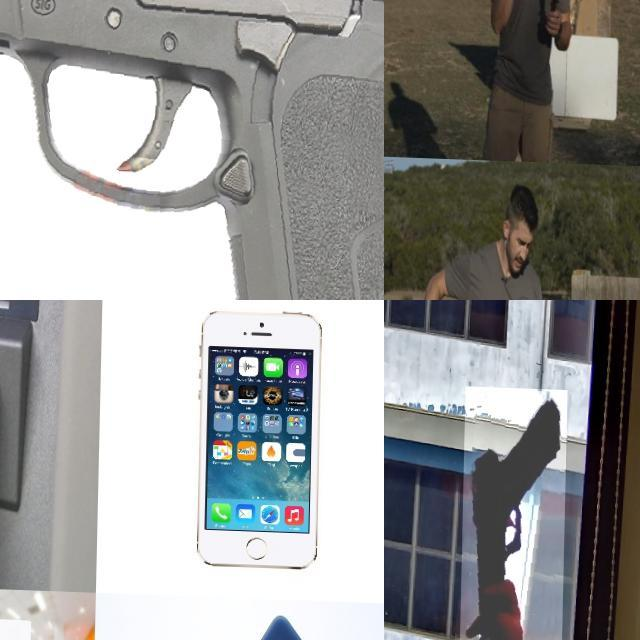-: (515, 0, 535, 38), (546, 0, 562, 38), (384, 84, 396, 109)
gun-knife-thesis - v11 Yolov5 augmented: (0, 0, 384, 300), (461, 383, 568, 640)
